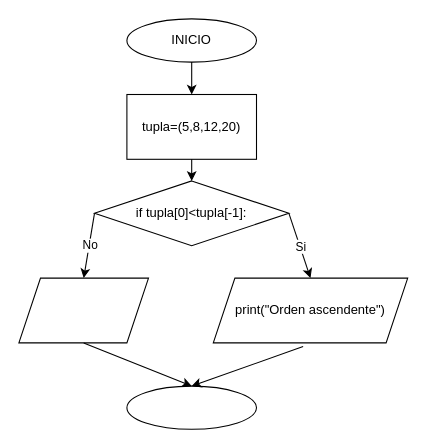
The diagram is 427 pixels wide and 448 high, and some of its shapes have lost their labels. Each missing label, with the centre of its shape:
FIN: point (191, 407)
print("Orden descendente"): point (83, 310)
